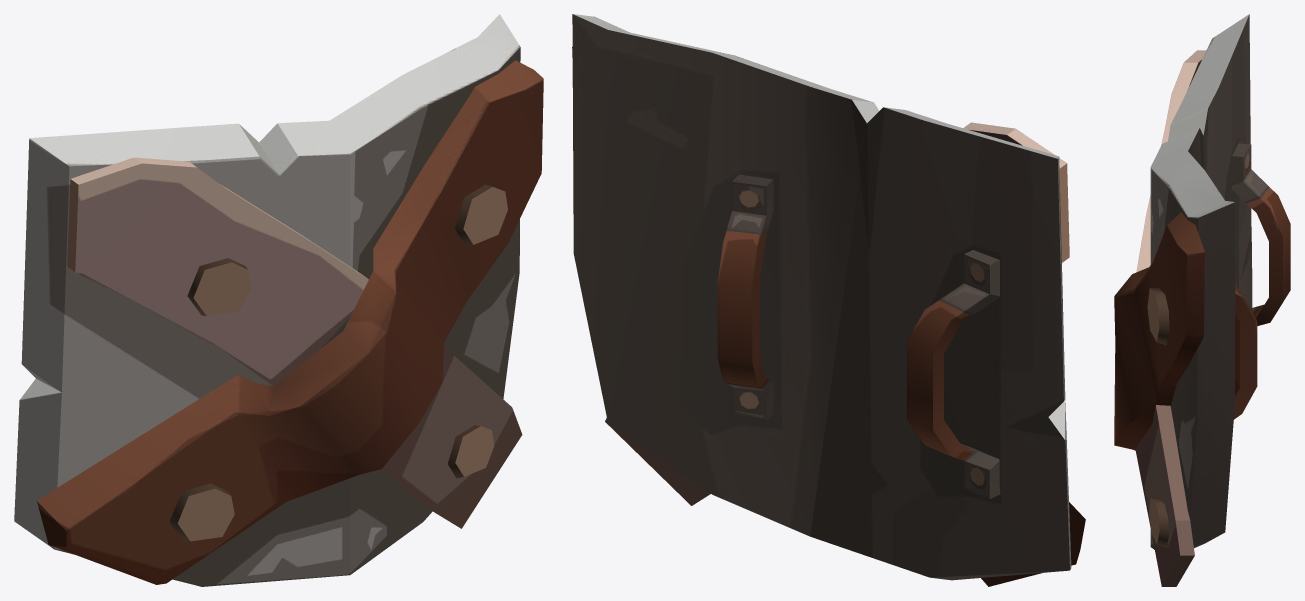
Rendered from Bronze_05.FBX.
3 views of the same model, side by side, from view 1: azimuth 30°, elevation 25°; view 2: azimuth 150°, elevation 25°; view 3: azimuth 270°, elevation 25° (orthographic). The views are drawn at different scales.
Parts seen in each view (by area): view 1: bronze_05; view 2: bronze_05; view 3: bronze_05.
Part boxes in pixels (bbox=[...]): bronze_05: bbox=[14, 14, 543, 586]; bronze_05: bbox=[572, 14, 1085, 586]; bronze_05: bbox=[1114, 14, 1290, 586].
Bounding box in the file's own units: 56.4 × 52.34 × 19.42.
